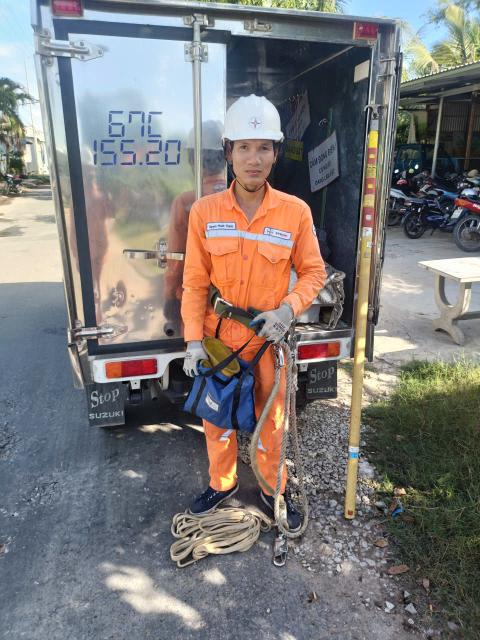gloves: (248, 296, 303, 343), (180, 331, 213, 375)
harness: (200, 277, 278, 337)
helmet: (218, 97, 292, 150)
shoes: (177, 455, 245, 518), (259, 479, 313, 534)
